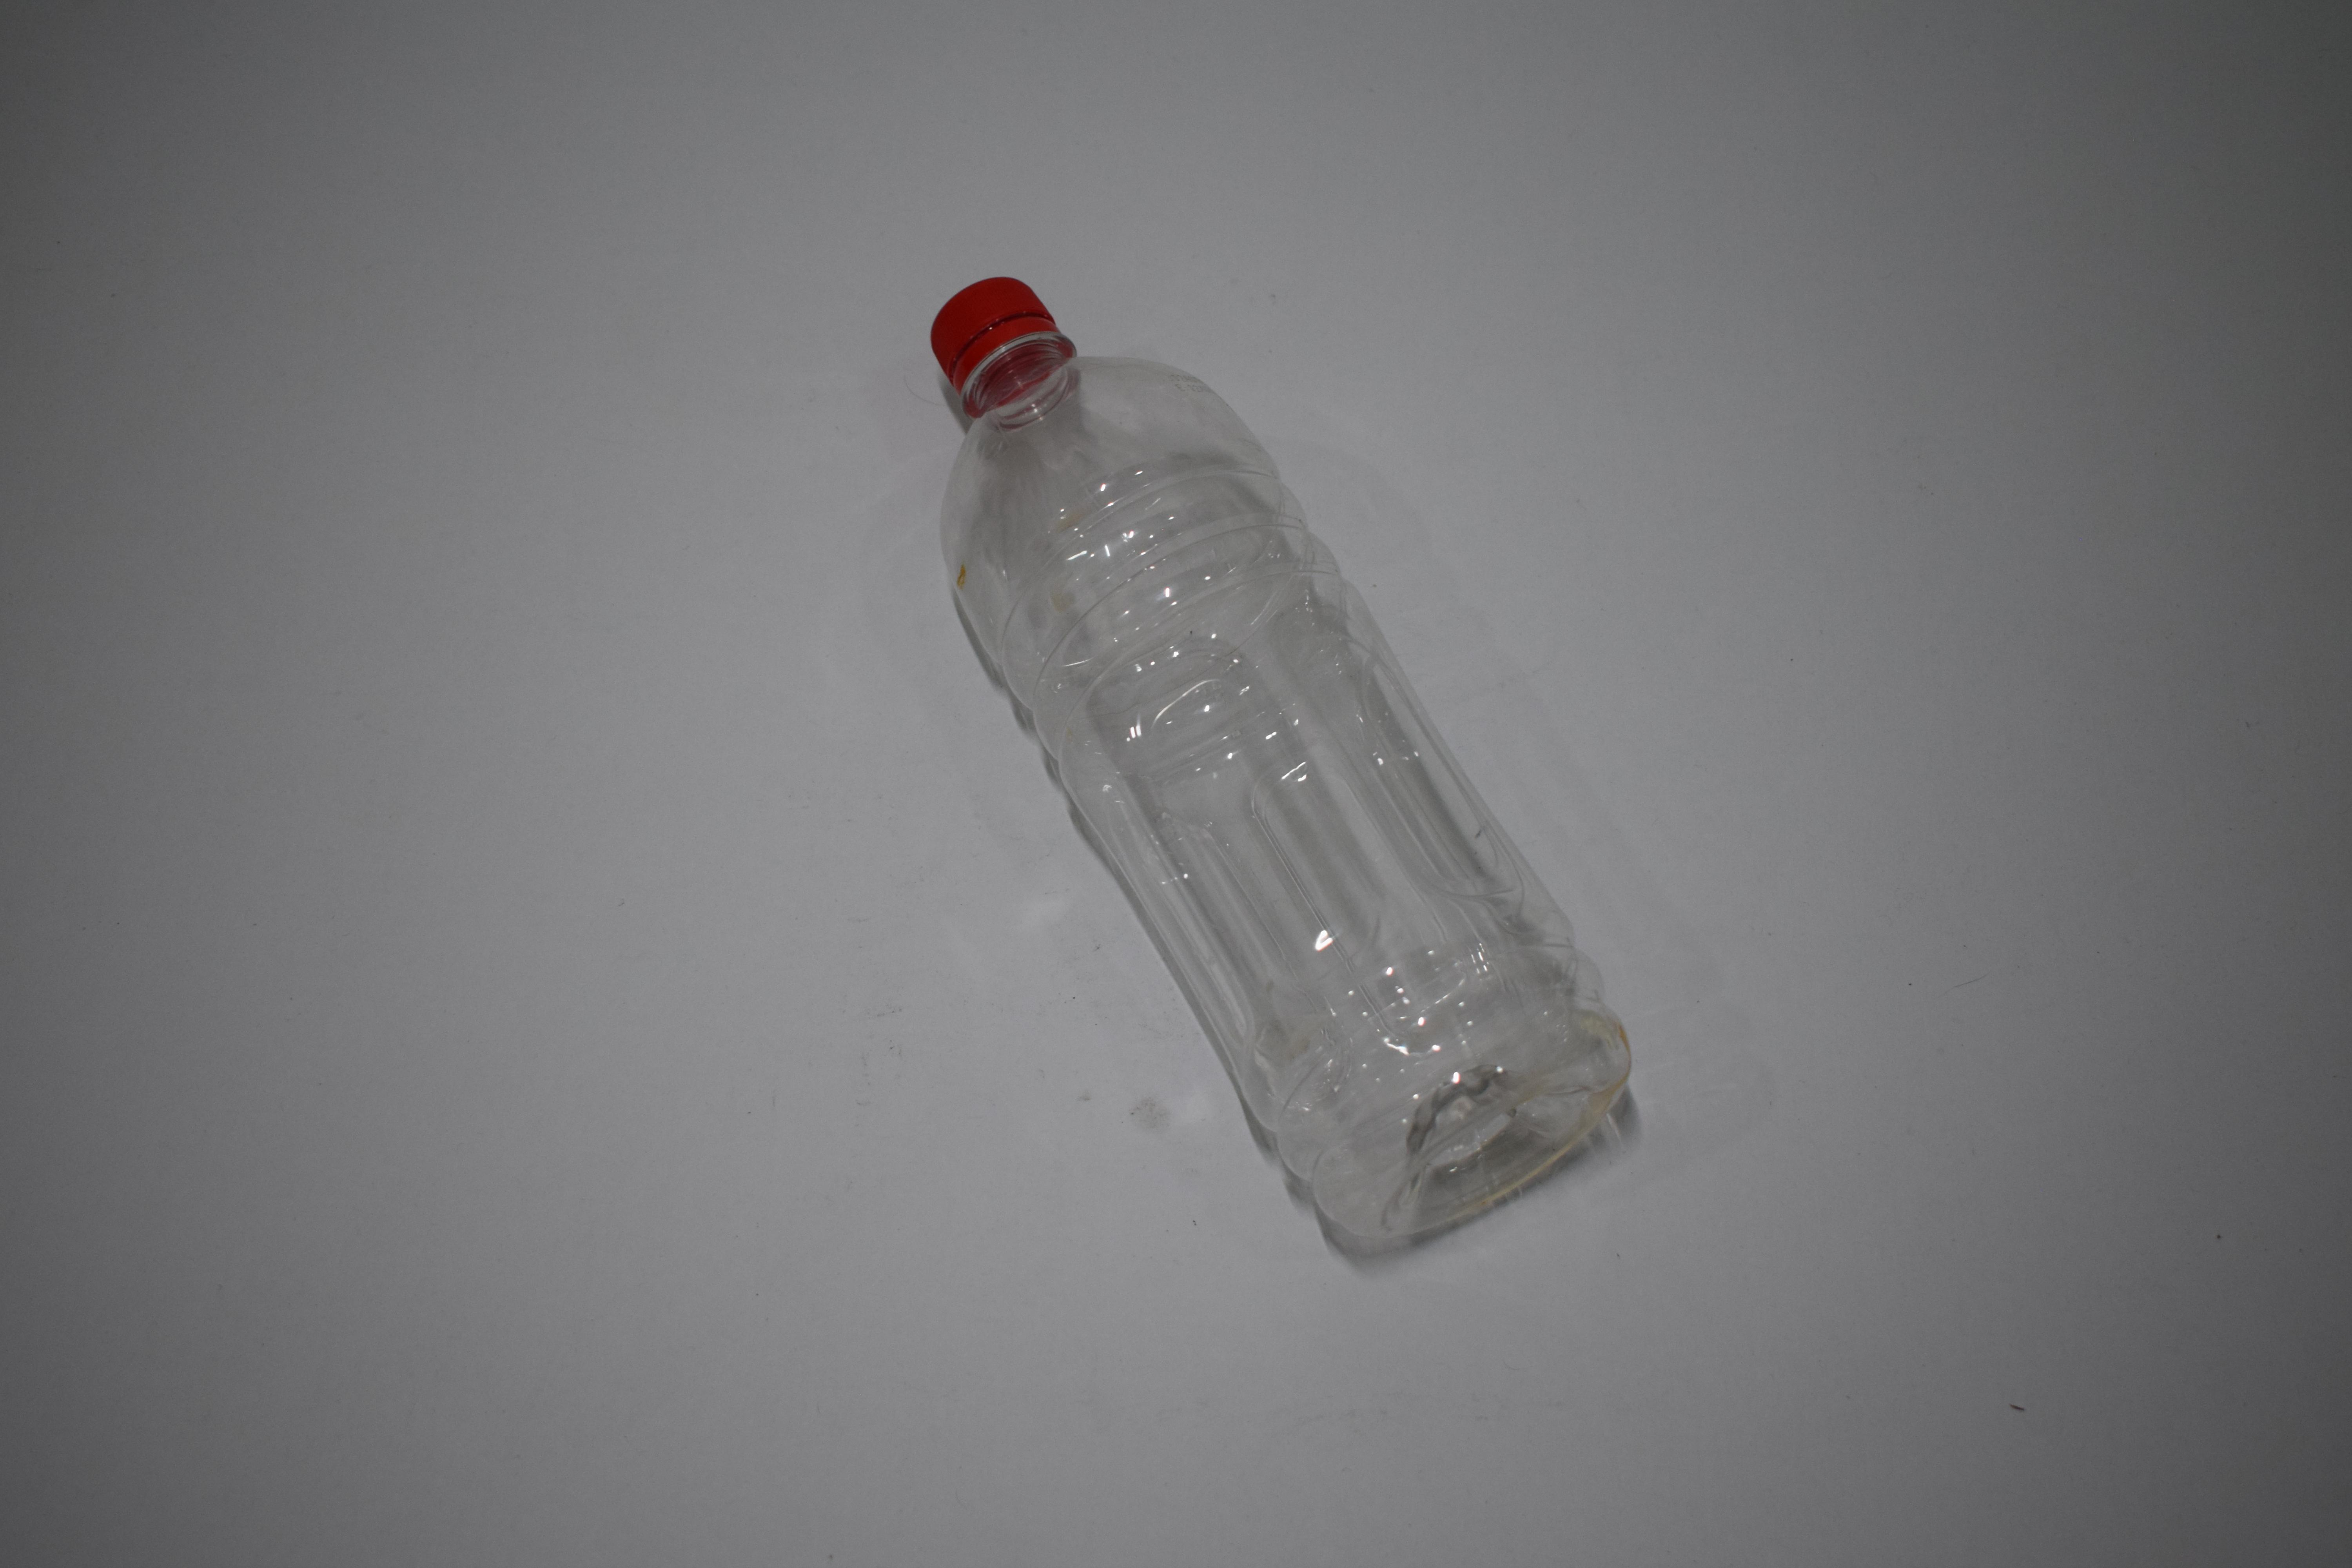bottle: (0, 275, 455, 1262)
